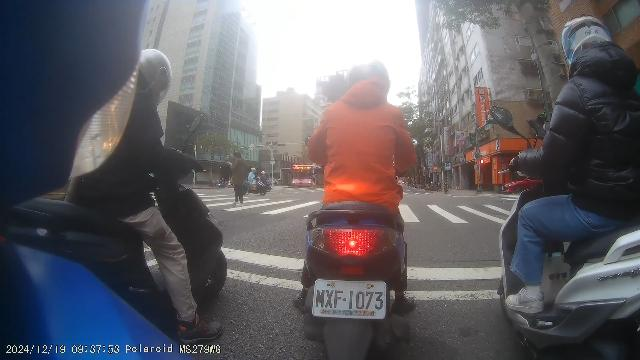plate: (313, 281, 386, 318)
